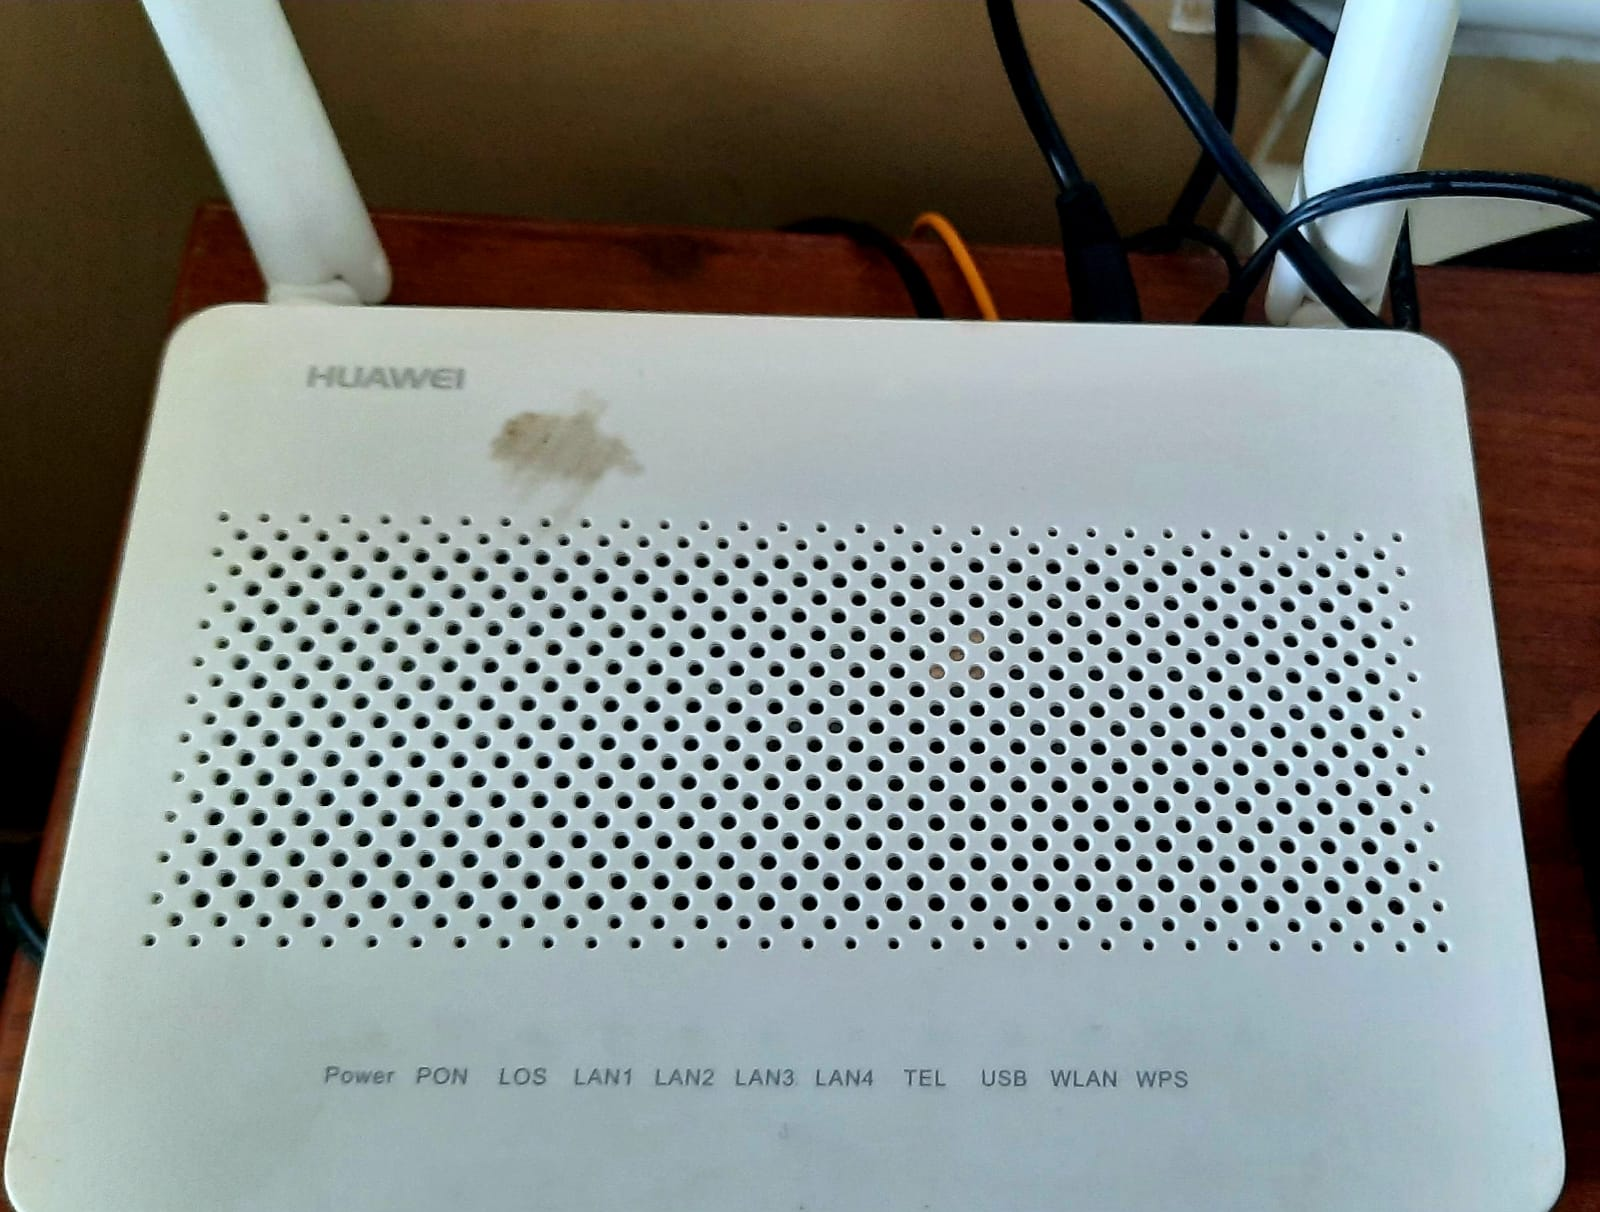WhiteWireIssue: (269, 1025, 1301, 1136)
